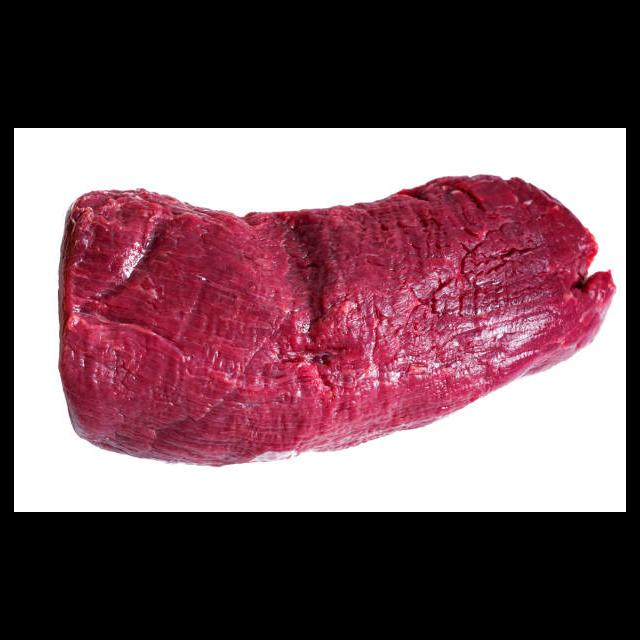beef: (56, 176, 617, 468)
